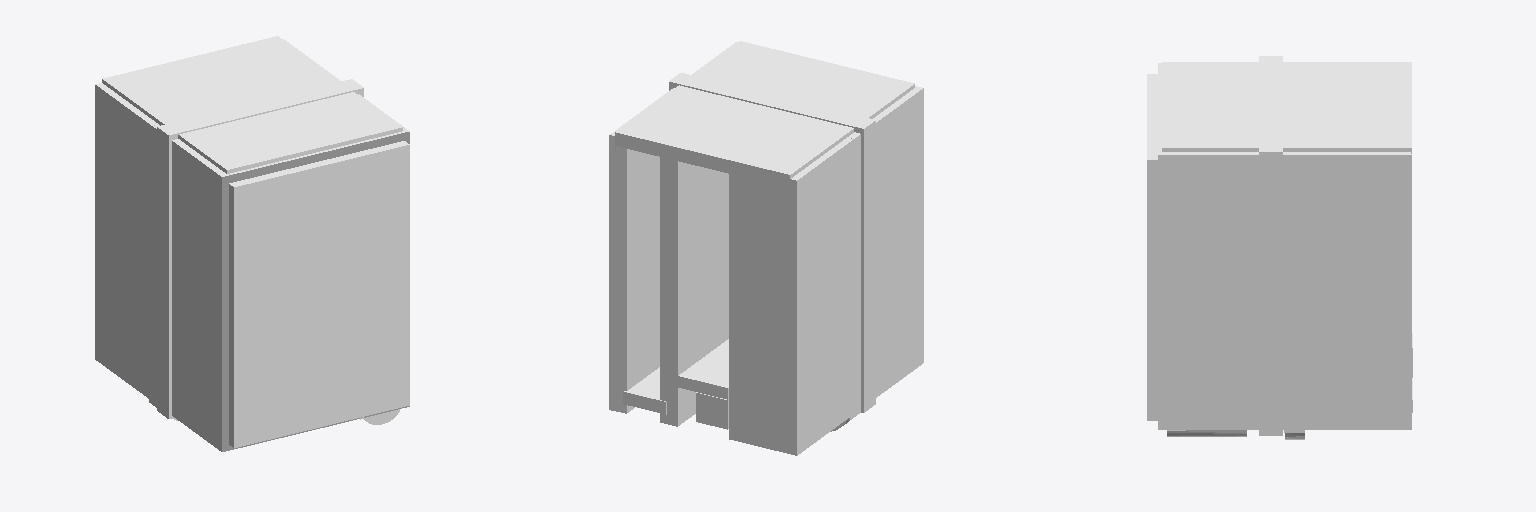
File: Shop.obj
3 renders of one model, left to right at view 1: azimuth 30°, elevation 25°; view 2: azimuth 150°, elevation 25°; view 3: azimuth 270°, elevation 25°, orthographic.
Bounding box in the file's own units: 123 × 183 × 145.